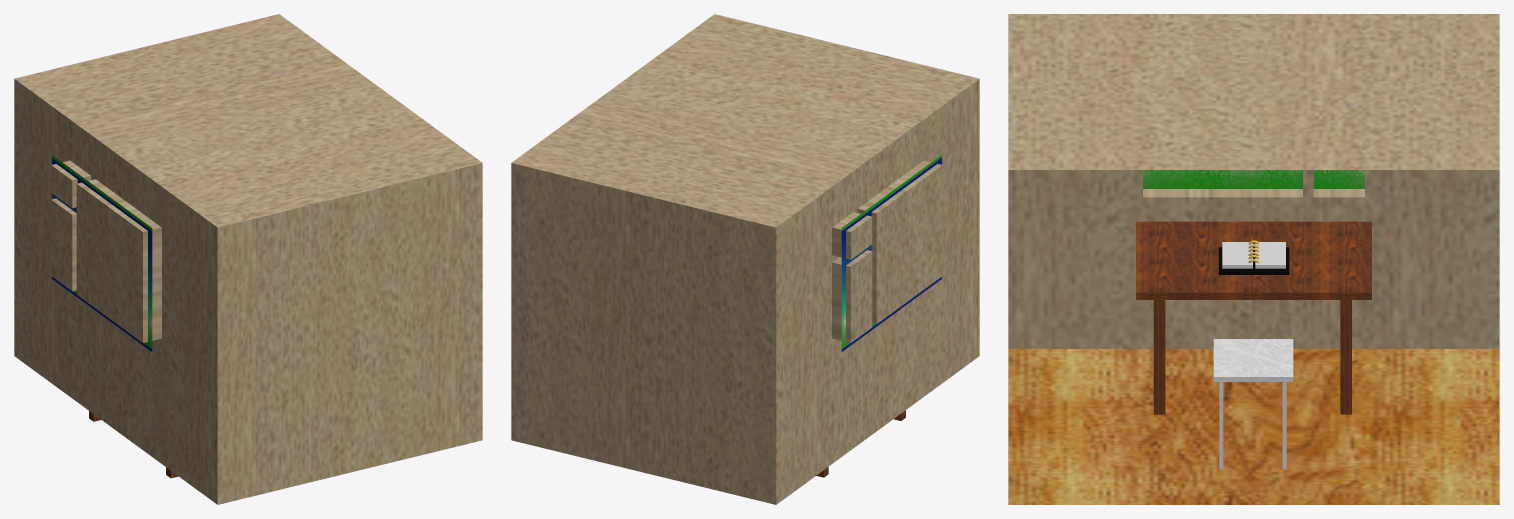
The model's file is sample(room).glb.
3 renders of one model, left to right at view 1: azimuth 30°, elevation 25°; view 2: azimuth 150°, elevation 25°; view 3: azimuth 270°, elevation 25°, orthographic. The views are drawn at different scales.
Visible parts, largest first — view 1: Cube, Plane; view 2: Cube, Plane; view 3: Cube, Cube.004, Cube.008, Plane, Cube.013, Cube.012, Cube.011.
Part boxes in pixels (x1,y1,x2,y2): Cube: (14, 14, 482, 504); Plane: (52, 155, 152, 351); Cube: (511, 14, 979, 504); Plane: (841, 155, 941, 351); Cube: (1008, 14, 1499, 504); Cube.004: (1136, 221, 1371, 414); Cube.008: (1213, 339, 1293, 469); Plane: (1143, 170, 1364, 188); Cube.013: (1222, 242, 1252, 268); Cube.012: (1255, 242, 1285, 268); Cube.011: (1218, 247, 1289, 274).
Size of the model in its own units: 2.14 by 2.15 by 2.66.
7 materials, 5 textured.
